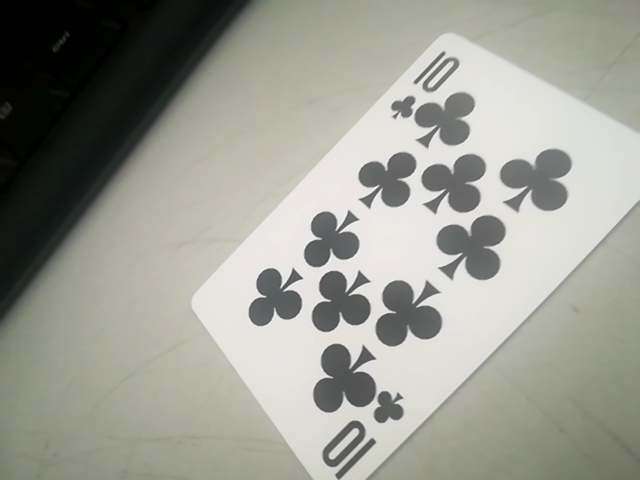mh 10: (181, 43, 640, 480)
